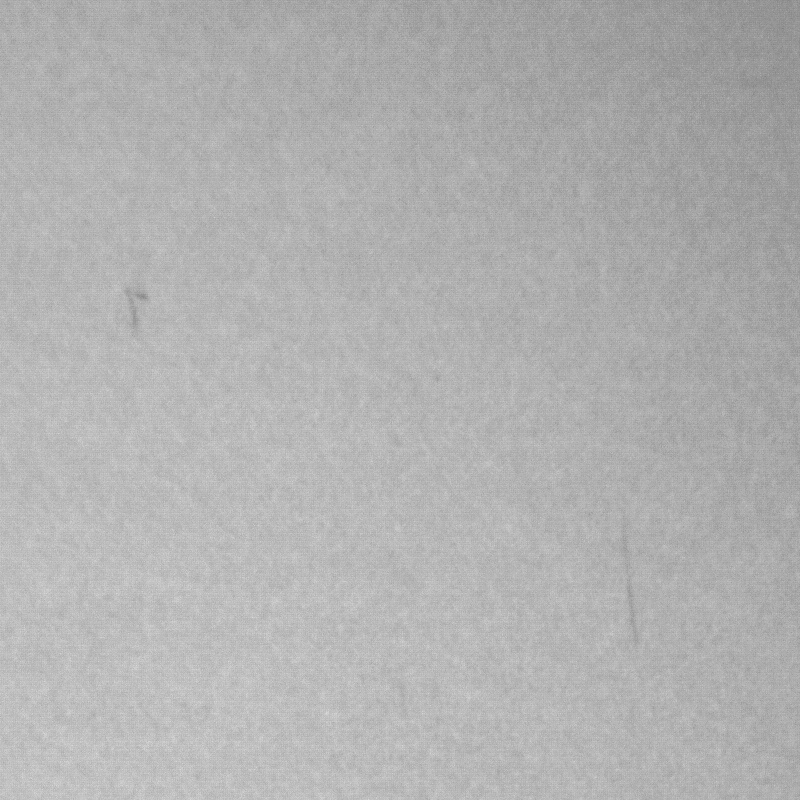defect: (626, 521, 647, 652), (124, 287, 154, 342)
